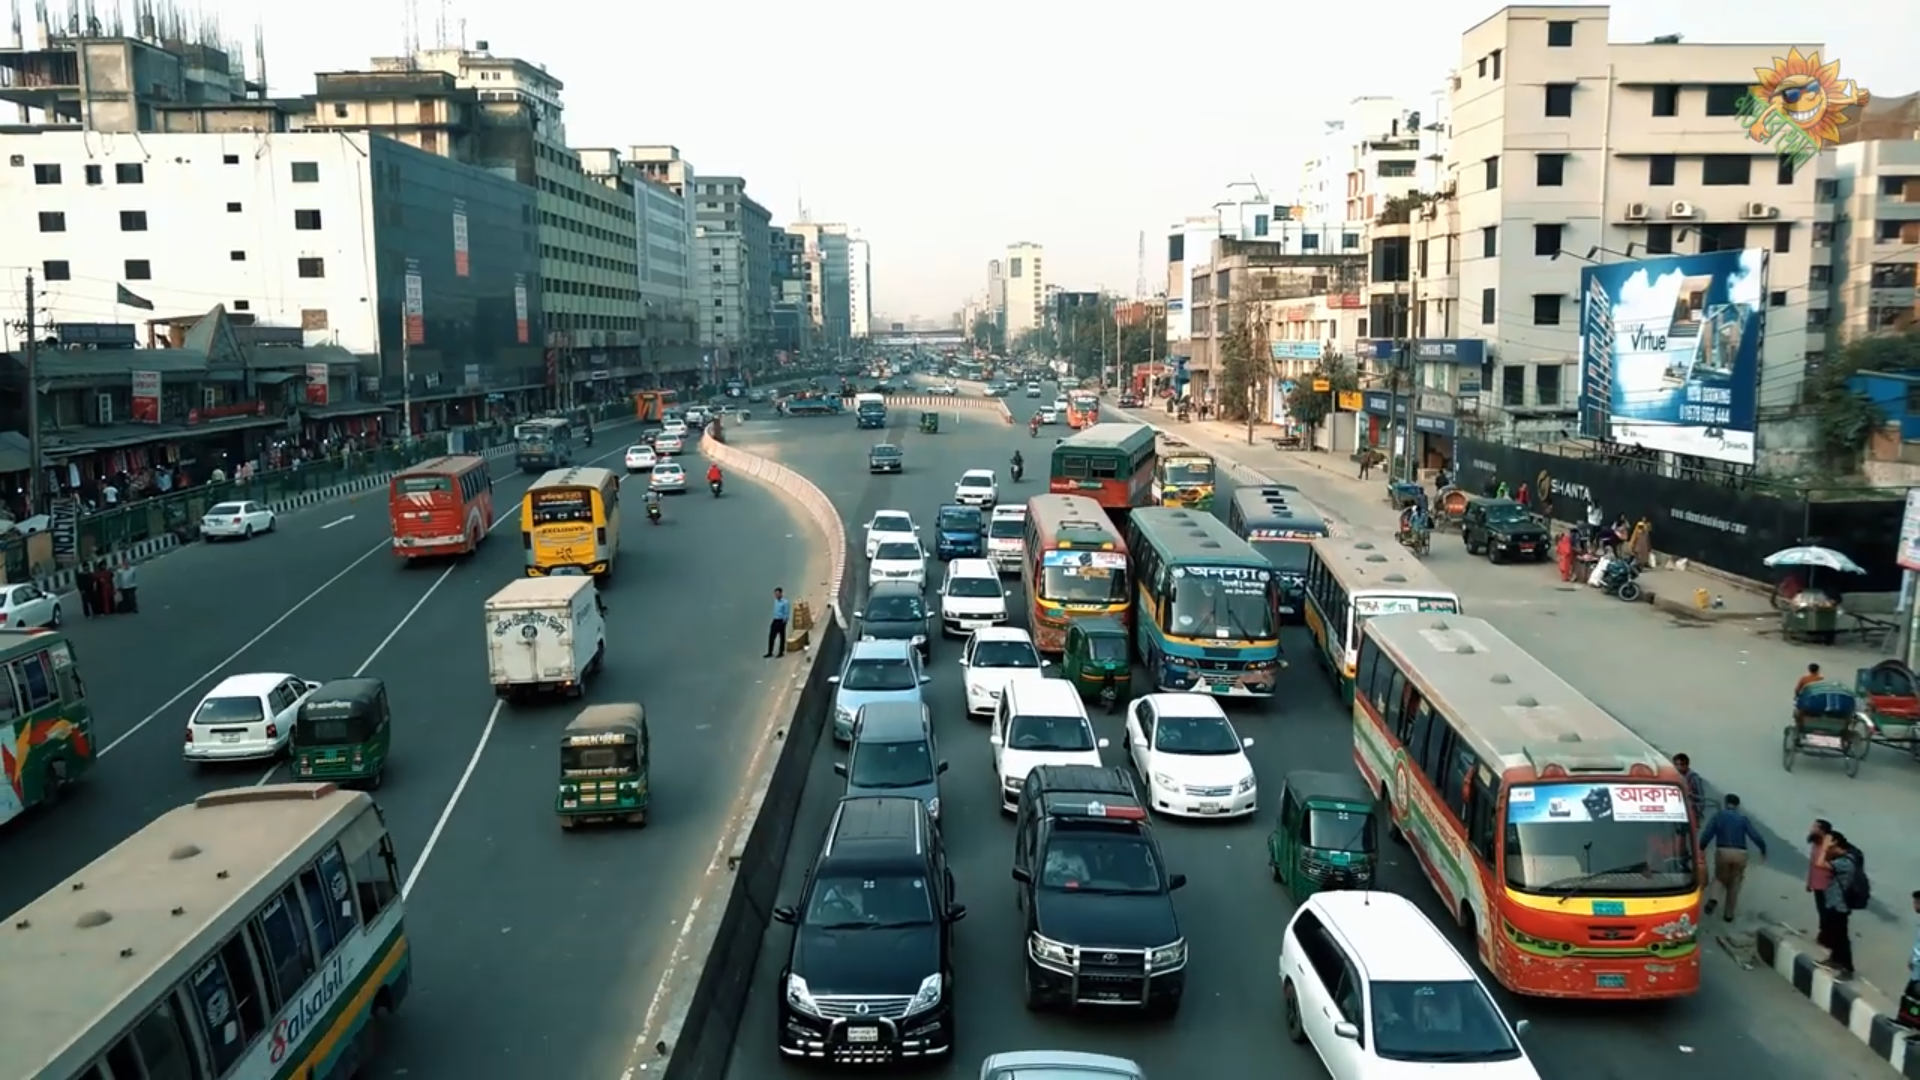HeavyVehicle: (1357, 615, 1712, 1011), (1139, 501, 1283, 708), (477, 578, 611, 700), (1026, 495, 1127, 624), (386, 454, 495, 566), (518, 465, 624, 575)
LightVehicle: (1011, 767, 1189, 1038), (1124, 694, 1262, 825), (841, 702, 948, 796), (836, 641, 924, 698), (853, 580, 928, 633), (868, 535, 924, 579), (650, 462, 688, 492), (869, 444, 902, 473)
MotorCycle: (707, 462, 725, 498), (1010, 451, 1027, 487), (645, 491, 663, 524)
